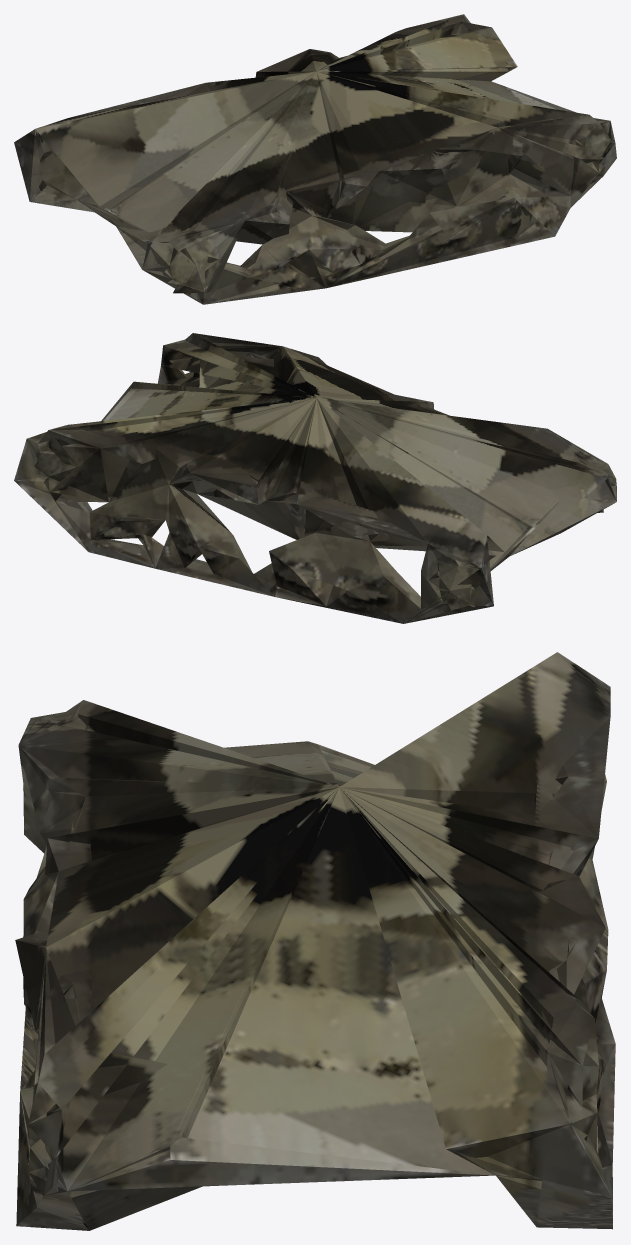
The model's file is hull.obj.
The picture shows the model from 3 angles, top to bottom: view 1: azimuth 30°, elevation 25°; view 2: azimuth 150°, elevation 25°; view 3: azimuth 270°, elevation 25°; orthographic projection. The views are drawn at different scales.
Bounding box in the file's own units: 0.9833 × 0.292 × 0.5424.
Materials: 1 (1 with a texture image).
